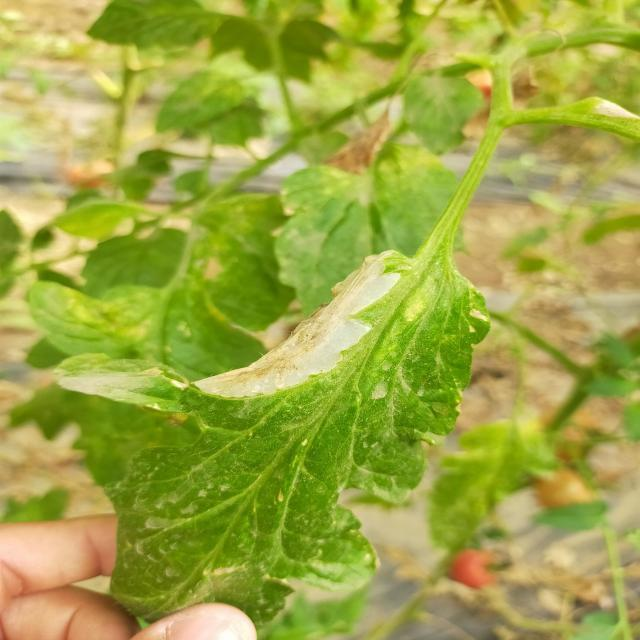Tuta absoluta: (194, 243, 427, 440)
